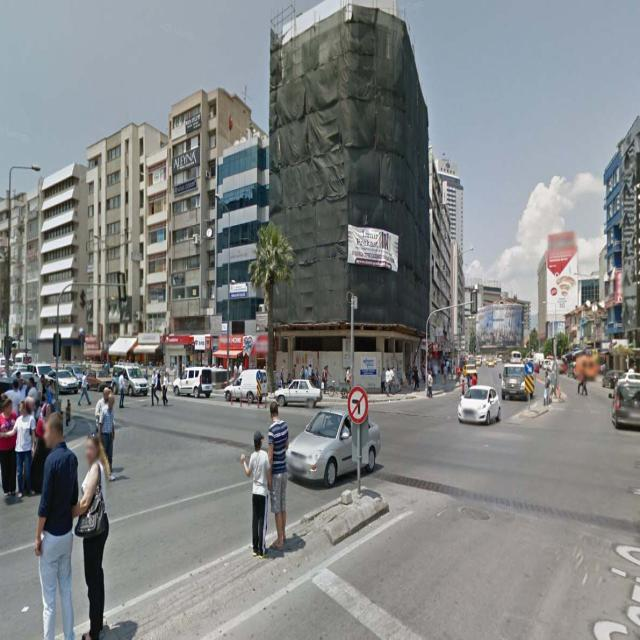soladonulmez: (348, 387, 368, 422)
